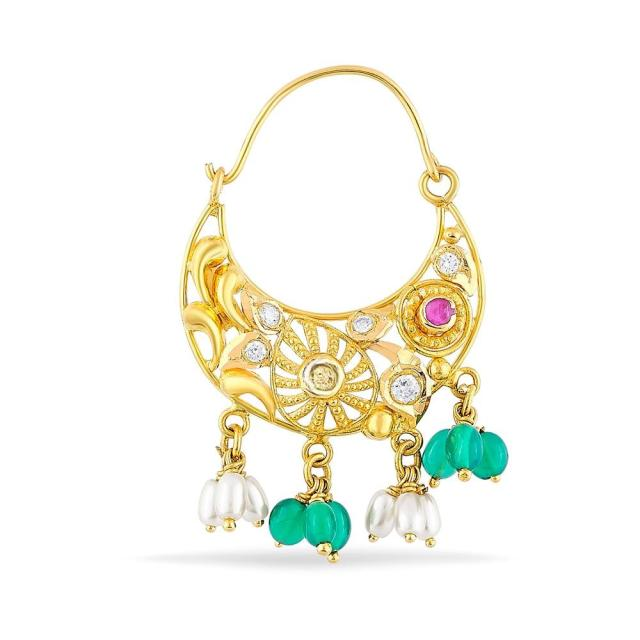missing gem: (309, 362, 340, 392)
